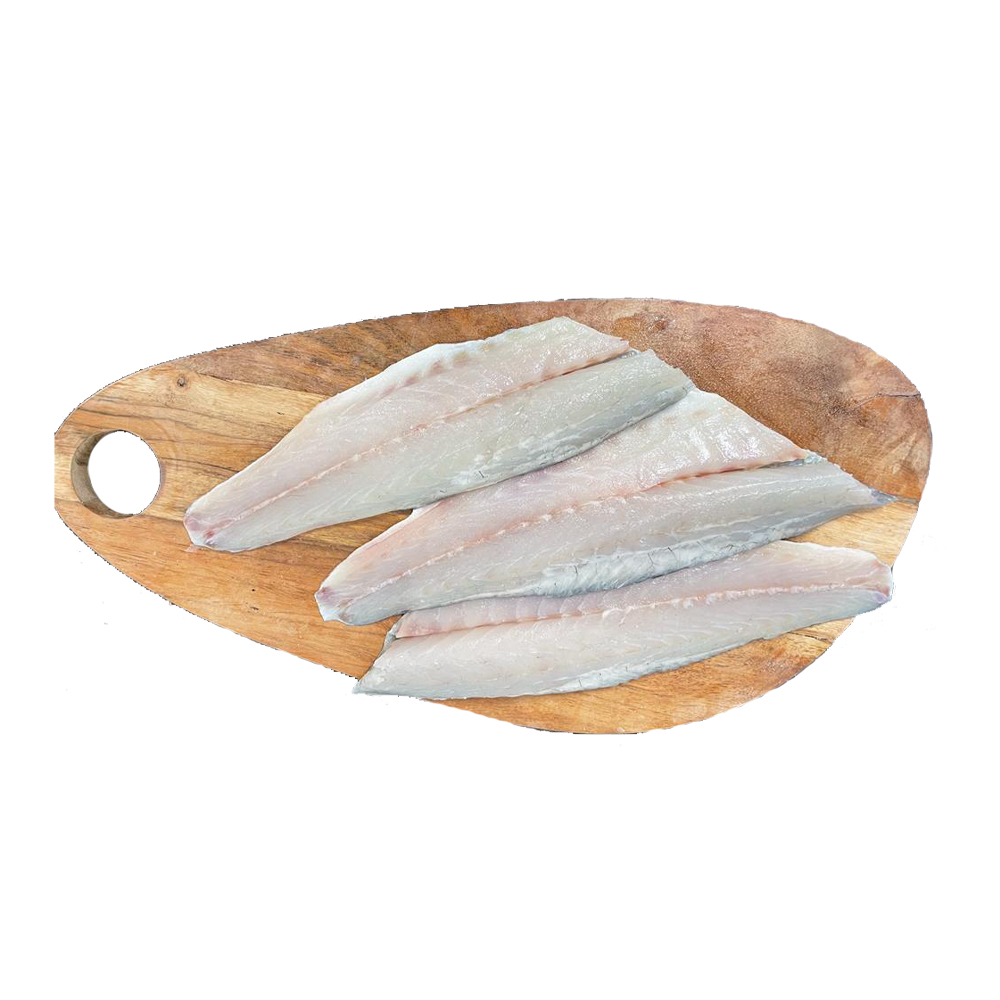bream-fish: (315, 395, 883, 627), (184, 321, 695, 557), (363, 537, 894, 704)
